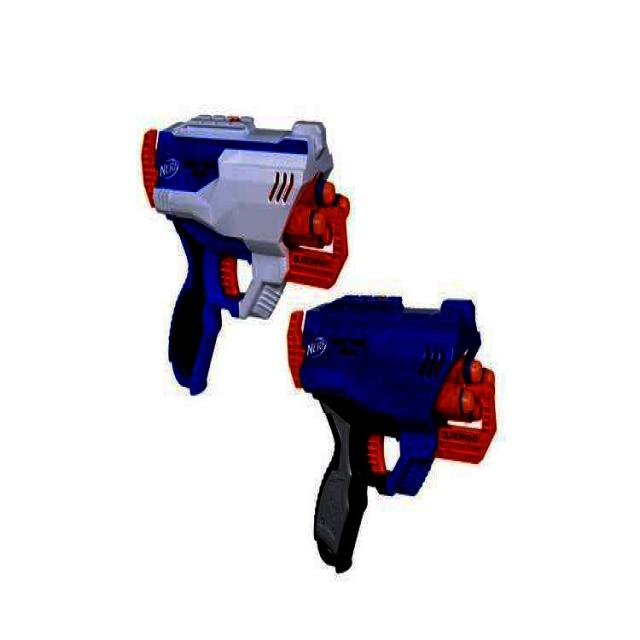Nerf gun: (282, 286, 502, 575), (139, 108, 351, 407)
